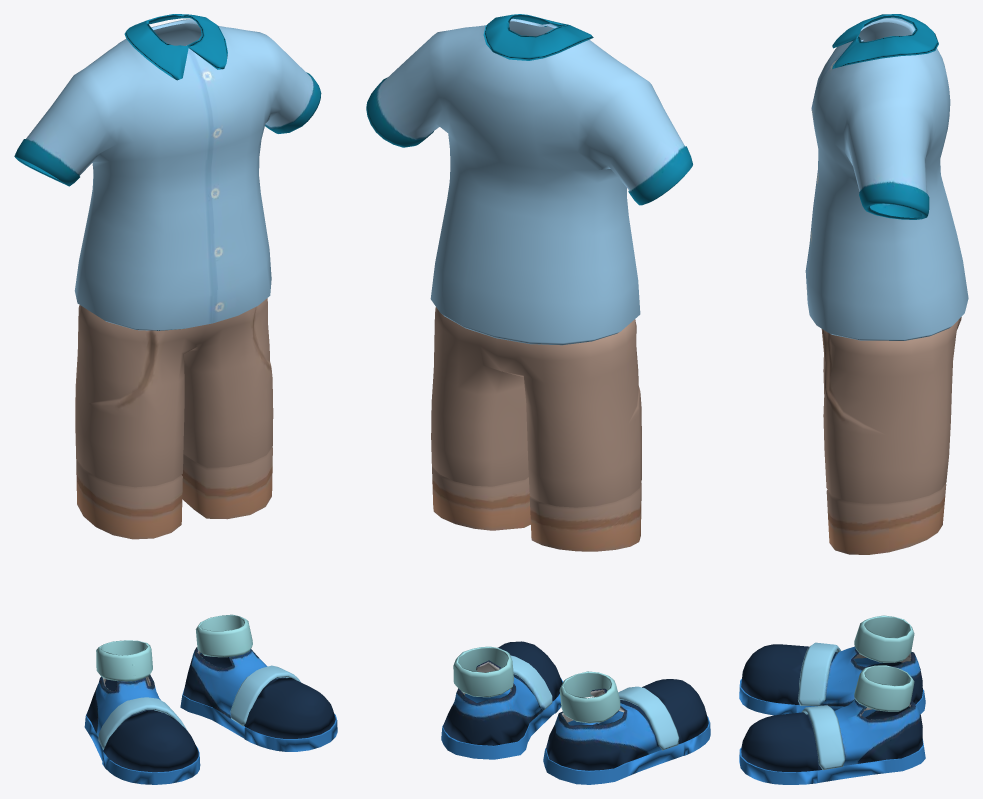
File: Kids.glb
3 renders of one model, left to right at view 1: azimuth 30°, elevation 25°; view 2: azimuth 150°, elevation 25°; view 3: azimuth 270°, elevation 25°, orthographic. The views are drawn at different scales.
Parts seen in each view (by area): view 1: Tshirt_lambert28_0; view 2: Tshirt_lambert28_0; view 3: Tshirt_lambert28_0.
Boxes of the visible parts, left/top/right/bottom form: Tshirt_lambert28_0: left=14, top=14, right=337, bottom=784; Tshirt_lambert28_0: left=366, top=14, right=710, bottom=784; Tshirt_lambert28_0: left=739, top=14, right=968, bottom=784.
Bounding box in the file's own units: 2.28 × 5.05 × 1.49.
1 material, 1 textured.
